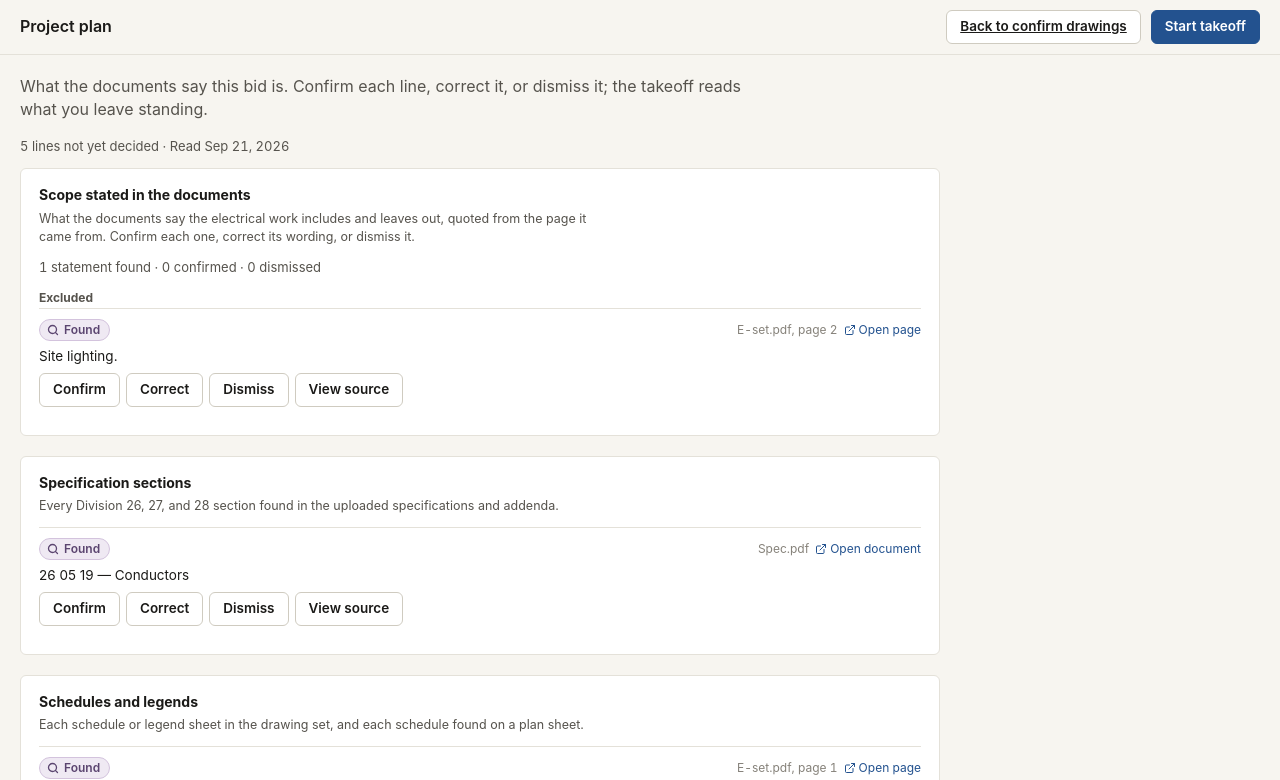
PlanWorkspace › shows a generic message for a bare network failure, never the raw error text
The image size is (1280, 780).
Click the button "Start takeoff" at (1205, 27), box top-left (1151, 10), bottom-right (1260, 44)
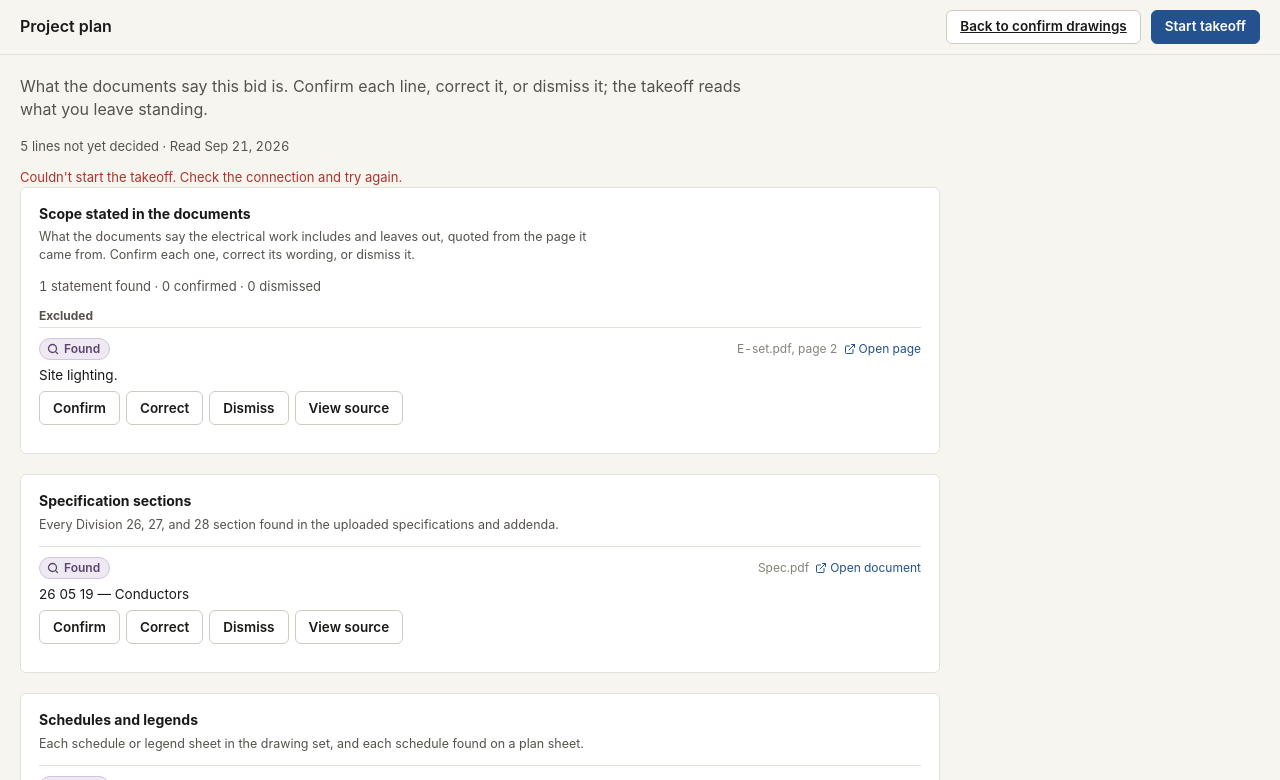
Result: the message reads "Couldn't start the takeoff. Check the connection and try again." at top-left (20, 169), bottom-right (402, 185)
